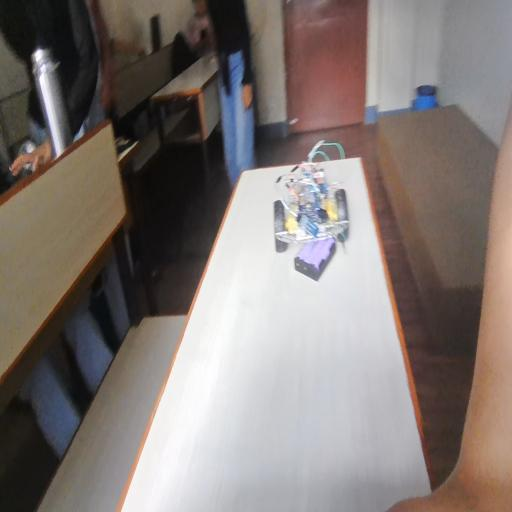car: (276, 156, 369, 257)
